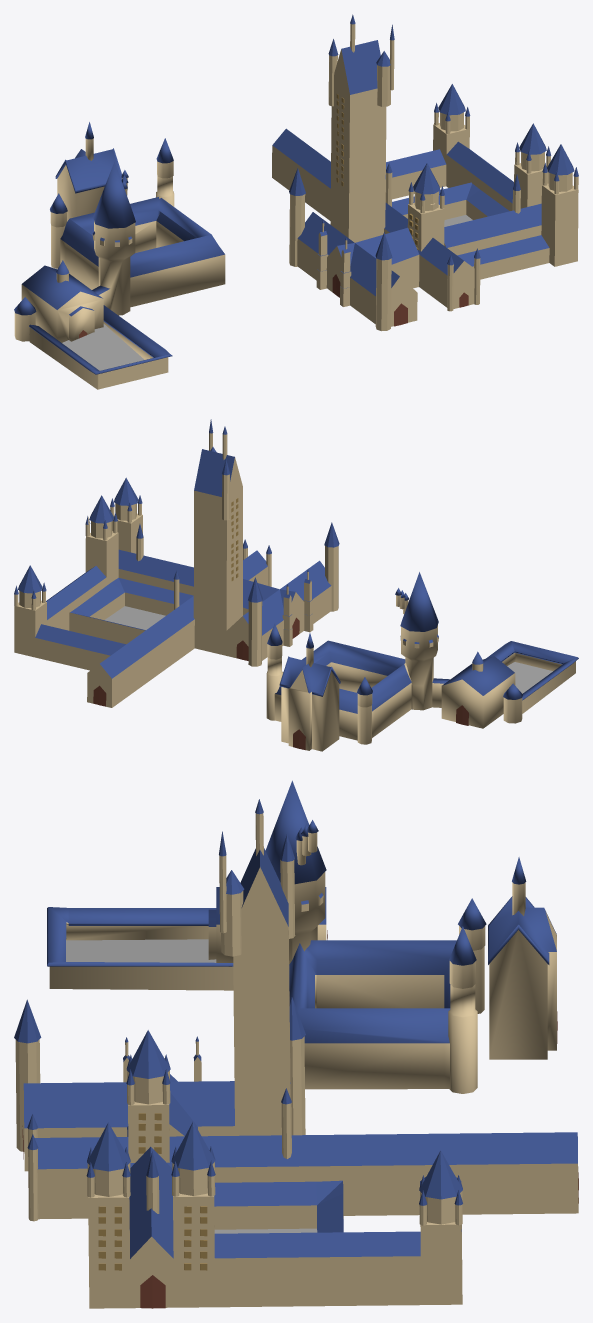
The model's file is finalcastle.fbx.
The picture shows the model from 3 angles, top to bottom: view 1: azimuth 30°, elevation 25°; view 2: azimuth 150°, elevation 25°; view 3: azimuth 270°, elevation 25°; orthographic projection. The views are drawn at different scales.
Visible parts, largest first — view 1: Cube.005; view 2: Cube.005; view 3: Cube.005.
Part boxes in pixels (bbox=[...]): Cube.005: bbox=[14, 14, 578, 389]; Cube.005: bbox=[14, 419, 578, 751]; Cube.005: bbox=[14, 780, 578, 1308].
Size of the model in its own units: 21.6 by 10.13 by 13.55.
